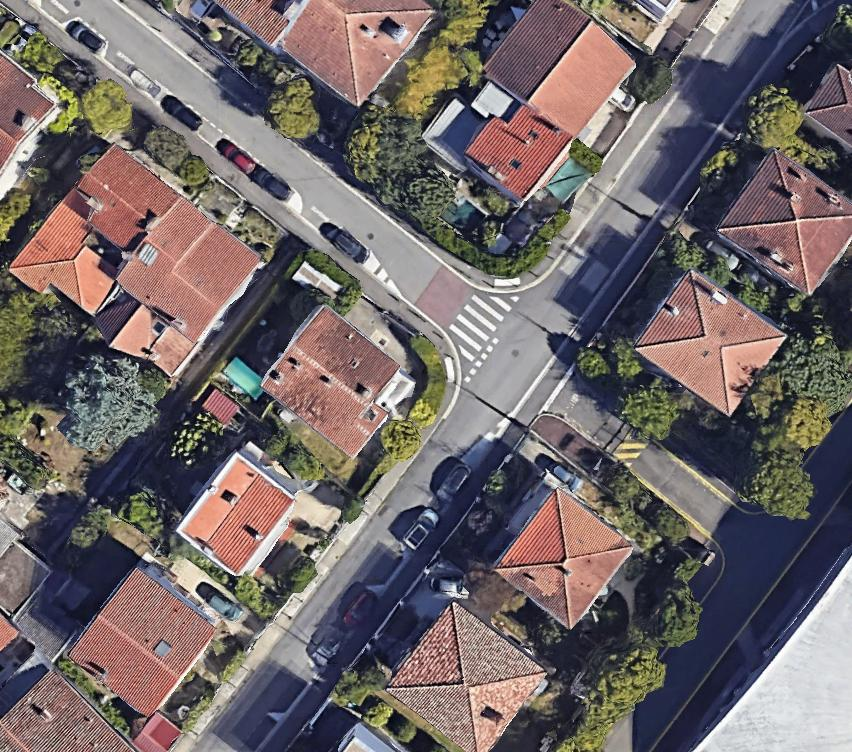maison: (6, 138, 266, 392), (430, 0, 640, 211), (63, 550, 227, 721), (255, 301, 419, 462), (381, 597, 549, 752), (630, 262, 788, 417), (215, 0, 433, 106), (711, 147, 852, 301), (170, 436, 315, 585), (491, 484, 636, 630), (0, 668, 137, 751), (0, 49, 59, 198), (805, 64, 851, 153)
